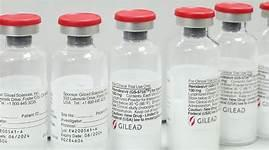Syringe: (49, 5, 110, 148), (165, 0, 221, 147), (109, 3, 165, 146), (1, 9, 48, 149)
